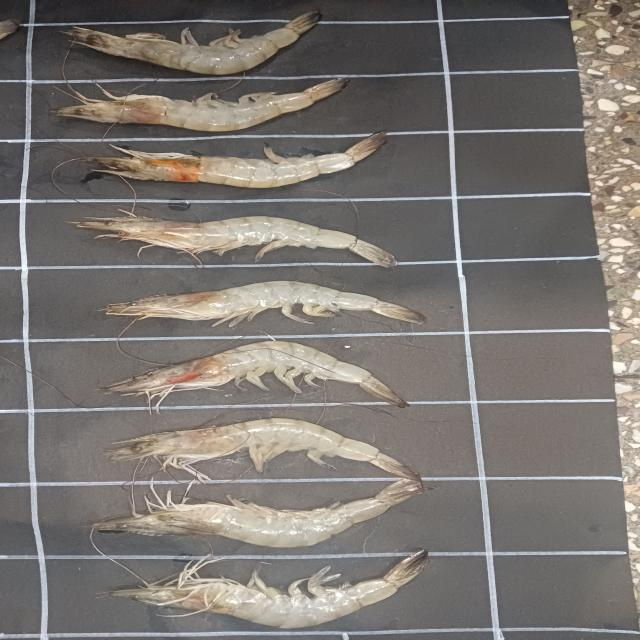shrimp: (108, 550, 429, 629), (93, 479, 429, 548), (102, 341, 407, 408), (108, 419, 421, 482), (73, 216, 396, 268), (89, 132, 385, 188), (66, 10, 321, 75), (58, 78, 348, 131), (104, 281, 425, 326)
